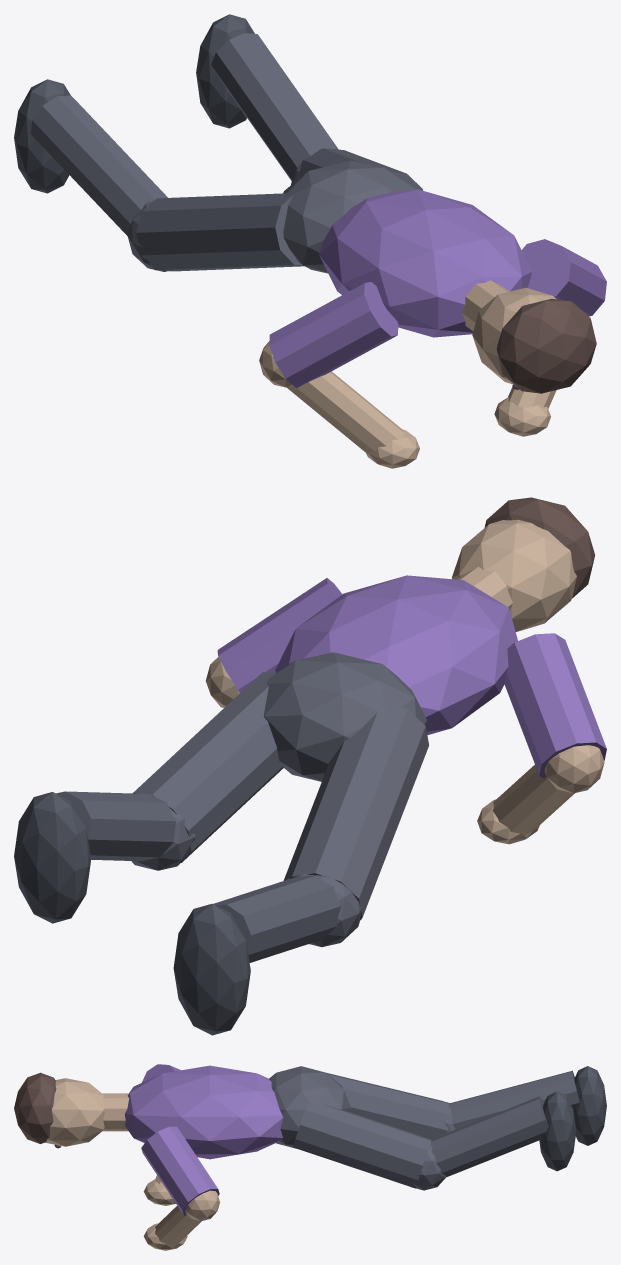
3 renders of one model, top to bottom at view 1: azimuth 30°, elevation 25°; view 2: azimuth 150°, elevation 25°; view 3: azimuth 270°, elevation 25°, orthographic. The views are drawn at different scales.
Parts seen in each view (by area): view 1: world; view 2: world; view 3: world.
Boxes of the visible parts, box(x1,y1,x2,y2) form: world: box(14, 14, 606, 468); world: box(14, 497, 606, 1035); world: box(14, 1064, 606, 1250).
Bounding box in the file's own units: 0.93 × 0.57 × 2.01.
